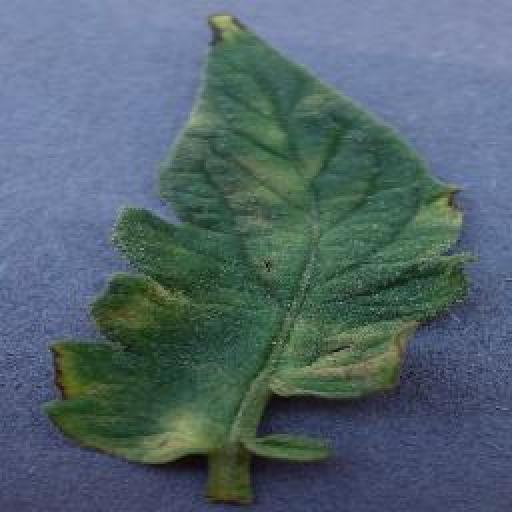Leaf Mold: (44, 10, 471, 470)
